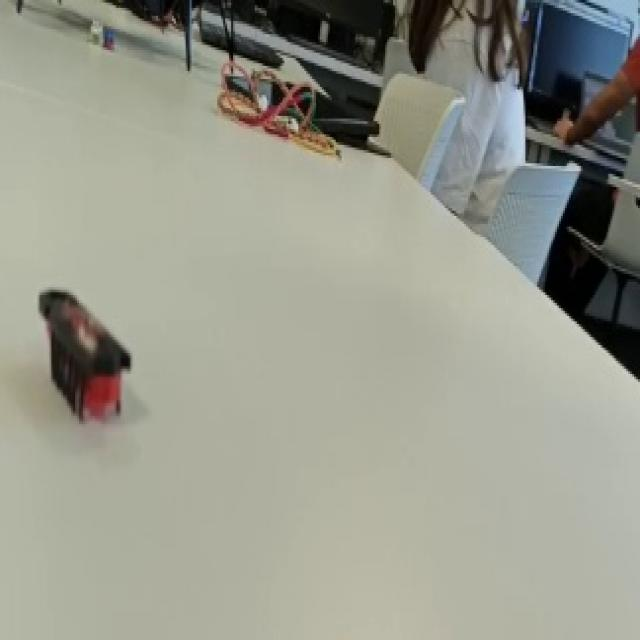2_NanoBug_Negro: (26, 275, 156, 445)
